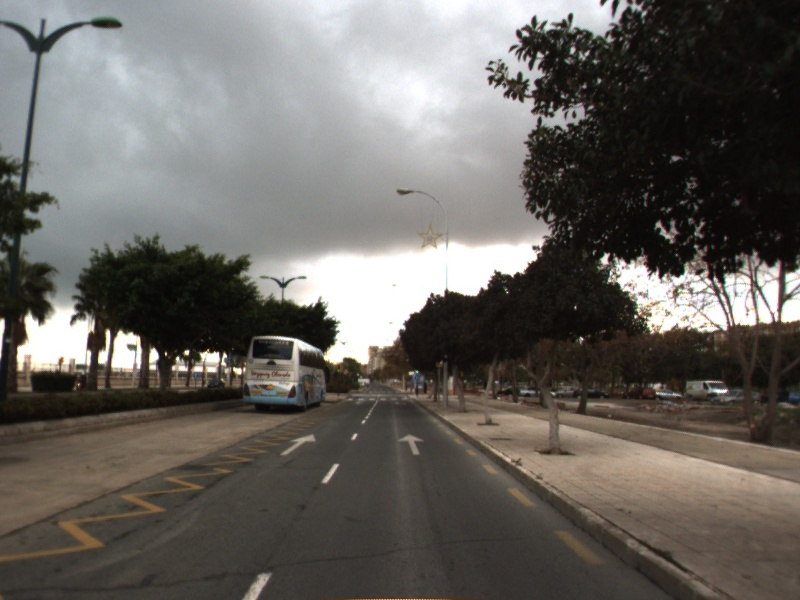STRAIGHT: (278, 432, 318, 457), (395, 432, 427, 457)
